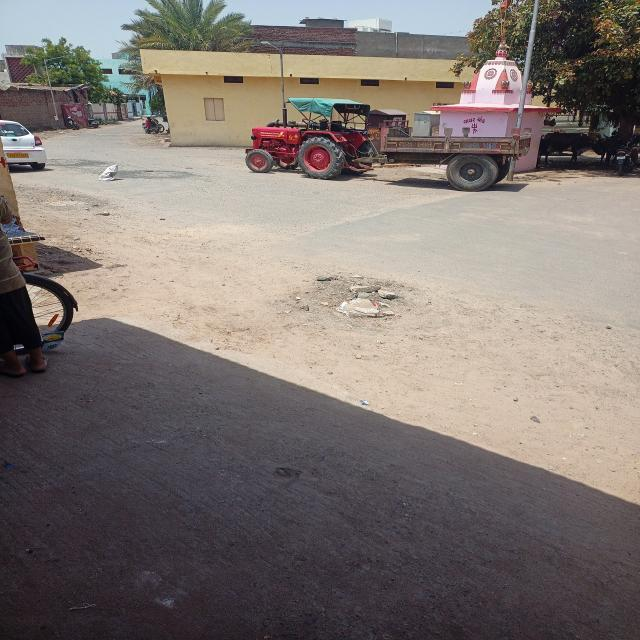Tractot: (227, 72, 532, 244)
